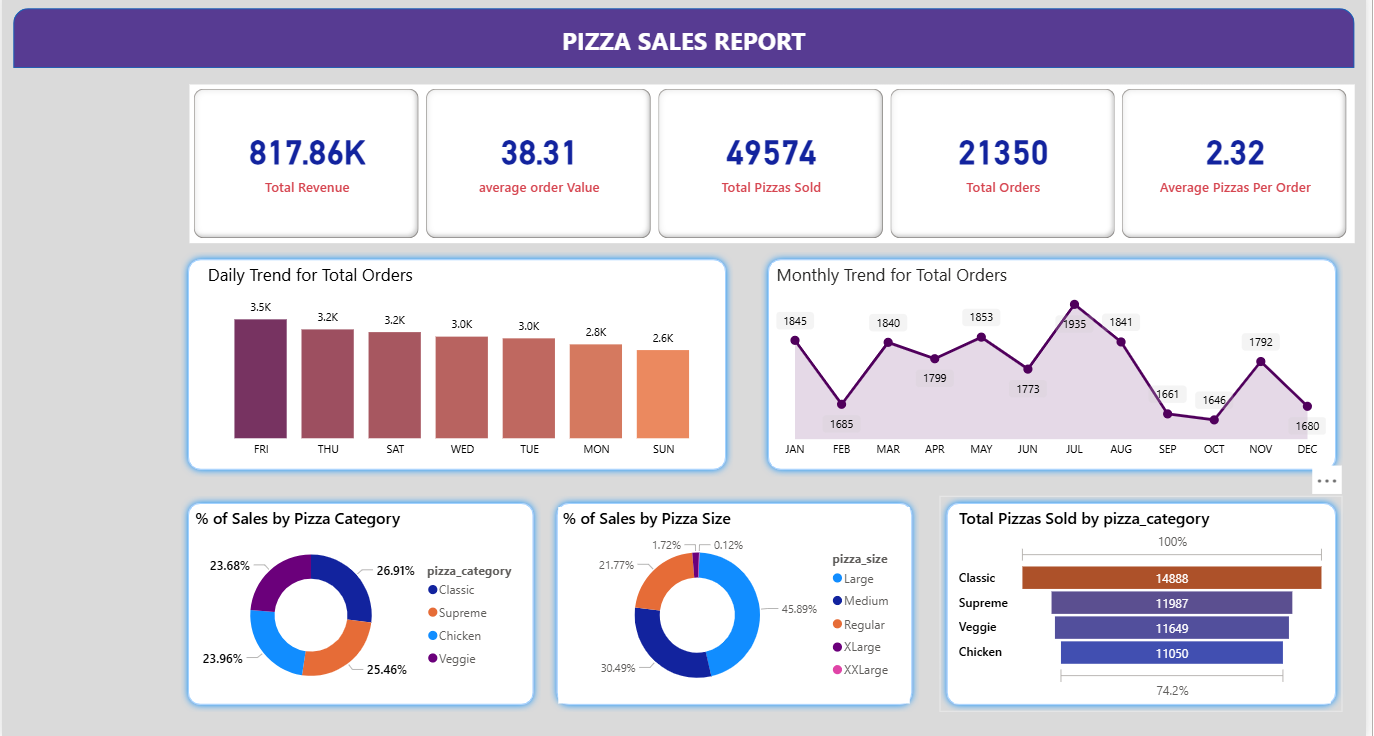

Layout of this report page (visuals, bound fields, positions):
{"tool":"powerbi","page":{"name":"Page 1","canvas":[1500,820],"ordinal":0},"visuals":[{"type":"cardVisual","fields":{"Data":["pizza_sales.Total Revenue","pizza_sales.average order Value","pizza_sales.Total Pizzas Sold","pizza_sales.Total Orders","pizza_sales.Average Pizzas Per Order"]},"box":[206.1,101.7,1280.6,174.5],"z":0},{"type":"shape","box":[12.4,17.9,1474.3,66],"z":1000},{"type":"shape","box":[196.5,285.8,607.3,247.3],"z":2000},{"type":"columnChart","title":"Daily Trend for Total Orders","fields":{"Category":["pizza_sales.Order Day"],"Y":["pizza_sales.Total Orders"]},"box":[221.2,298.2,570.2,222.6],"z":3000},{"type":"shape","box":[834,285.8,640.3,247.3],"z":4000},{"type":"areaChart","title":"Monthly Trend for Total Orders","fields":{"Category":["pizza_sales.Order Month"],"Y":["pizza_sales.Total Orders"]},"box":[846.4,298.2,614.2,222.6],"z":5000},{"type":"shape","box":[196.5,553.7,395.7,237.7],"z":6000},{"type":"shape","box":[601.8,553.7,406.7,237.7],"z":7000},{"type":"shape","box":[1030.5,553.7,443.8,237.7],"z":8000},{"type":"donutChart","title":"% of Sales by Pizza Category","fields":{"Category":["pizza_sales.pizza_category"],"Y":["pizza_sales.Total Revenue"]},"box":[207.5,566.1,373.7,215.7],"z":9000},{"type":"donutChart","title":"% of Sales by Pizza Size","fields":{"Category":["pizza_sales.pizza_size"],"Y":["pizza_sales.Total Revenue"]},"box":[611.4,566.1,386.1,215.7],"z":10000},{"type":"funnel","fields":{"Category":["pizza_sales.pizza_category"],"Y":["pizza_sales.Total Pizzas Sold"]},"box":[1047,566.1,413.6,215.7],"z":10001}]}

Visuals, with their boxes in screenshot pixels (x1, y1, x2, y2), scaled from the page's 1500x820 canvas onto the 1374x736 screenshot:
cardVisual - pizza_sales.Total Revenue x pizza_sales.average order Value: [x1=189, y1=91, x2=1362, y2=248]
shape: [x1=11, y1=16, x2=1362, y2=75]
shape: [x1=180, y1=257, x2=736, y2=478]
"Daily Trend for Total Orders" columnChart: [x1=203, y1=268, x2=725, y2=467]
shape: [x1=764, y1=257, x2=1350, y2=478]
"Monthly Trend for Total Orders" areaChart: [x1=775, y1=268, x2=1338, y2=467]
shape: [x1=180, y1=497, x2=542, y2=710]
shape: [x1=551, y1=497, x2=924, y2=710]
shape: [x1=944, y1=497, x2=1350, y2=710]
"% of Sales by Pizza Category" donutChart: [x1=190, y1=508, x2=532, y2=702]
"% of Sales by Pizza Size" donutChart: [x1=560, y1=508, x2=914, y2=702]
funnel - pizza_sales.pizza_category x pizza_sales.Total Pizzas Sold: [x1=959, y1=508, x2=1338, y2=702]
